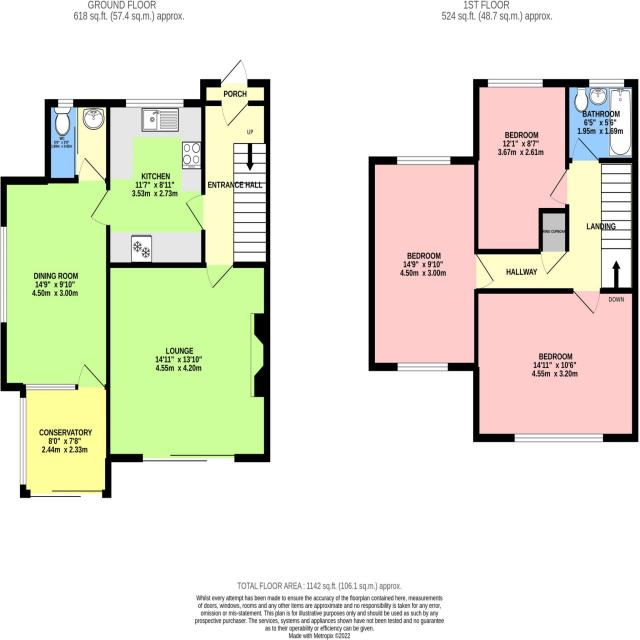DOOR: (216, 100, 252, 133), (217, 53, 251, 87), (86, 185, 111, 231), (75, 154, 110, 186), (204, 261, 238, 292), (181, 191, 206, 232), (569, 288, 602, 317), (473, 248, 495, 291), (548, 164, 570, 206), (571, 134, 601, 164), (77, 360, 106, 390)
ROOM: (106, 261, 271, 462), (369, 155, 498, 372), (81, 98, 205, 267), (473, 78, 569, 254)
WINDOW: (511, 428, 606, 446), (123, 95, 185, 111), (394, 357, 450, 374), (18, 394, 28, 488), (486, 75, 544, 91), (0, 222, 8, 327), (395, 153, 452, 166), (588, 76, 626, 89), (26, 382, 76, 391)
